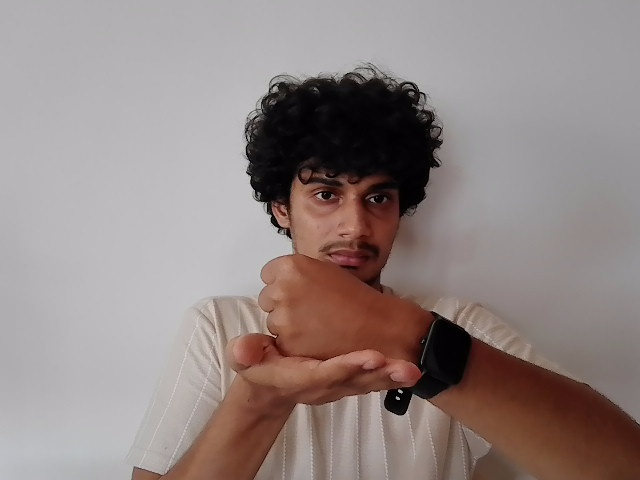help: (225, 251, 419, 412)
